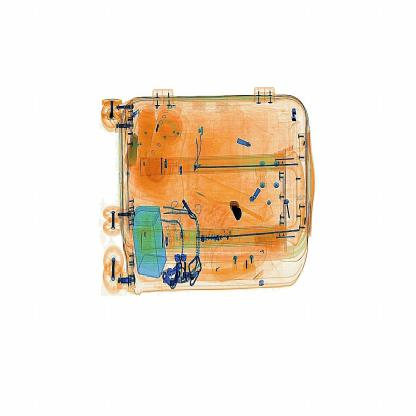wrench: (223, 192, 247, 238)
